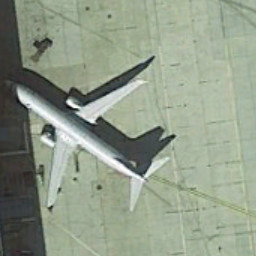Airplane: (1, 48, 187, 228)
